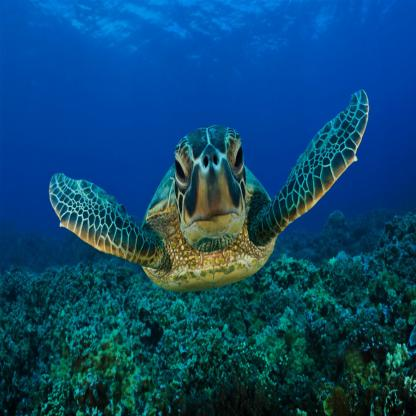turtle: (169, 116, 252, 257)
